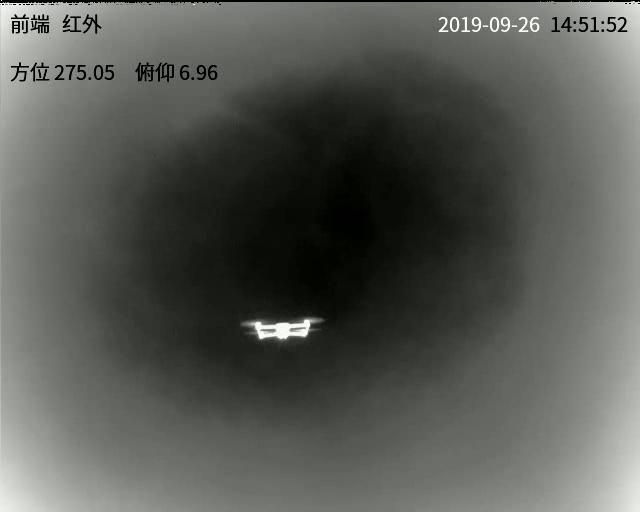DRONE: (243, 317, 323, 340)
